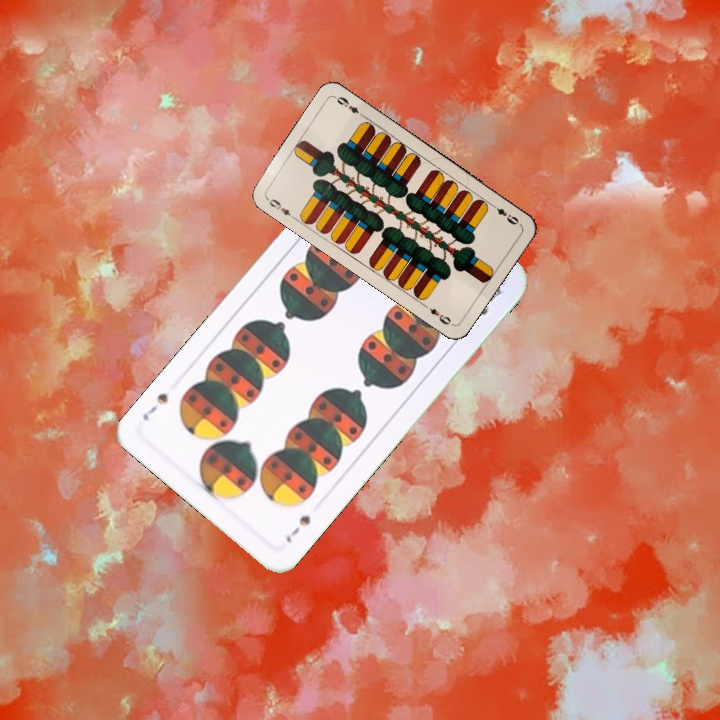E9: (487, 200, 523, 228), (263, 194, 298, 222)
S7: (281, 511, 314, 545)
